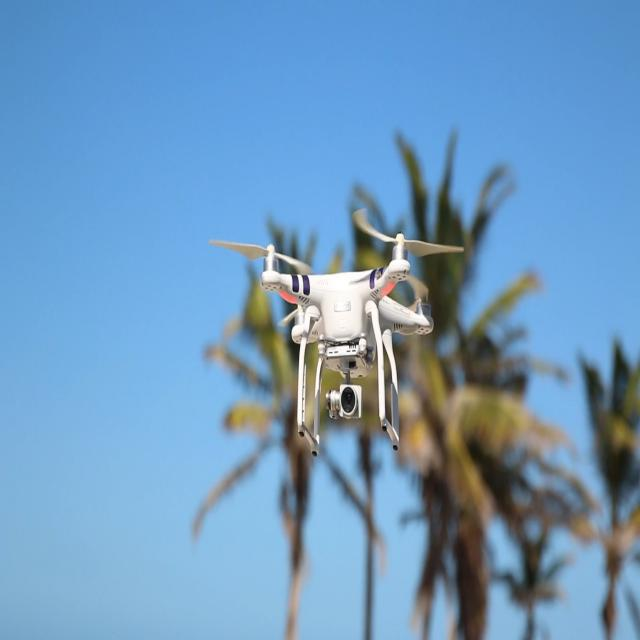Drone: (213, 192, 475, 460)
